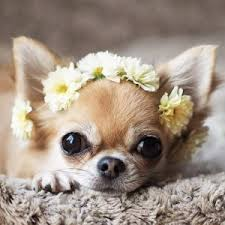chihuahua: (9, 34, 219, 196)
